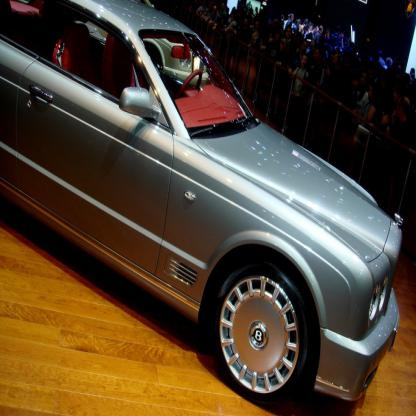Car: (0, 0, 404, 401)
